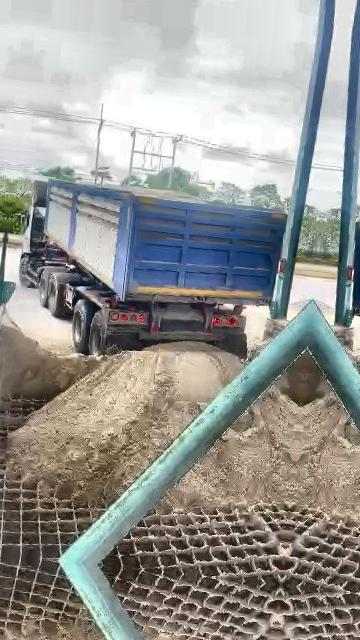sand: (8, 342, 243, 502), (166, 388, 300, 506), (0, 318, 103, 401), (276, 350, 307, 405), (121, 186, 193, 199), (250, 339, 268, 360)
